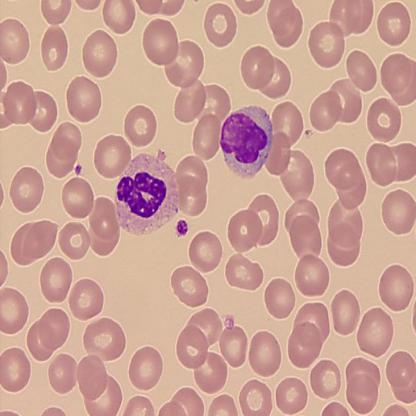Band Neutrophil: (112, 150, 181, 238)
